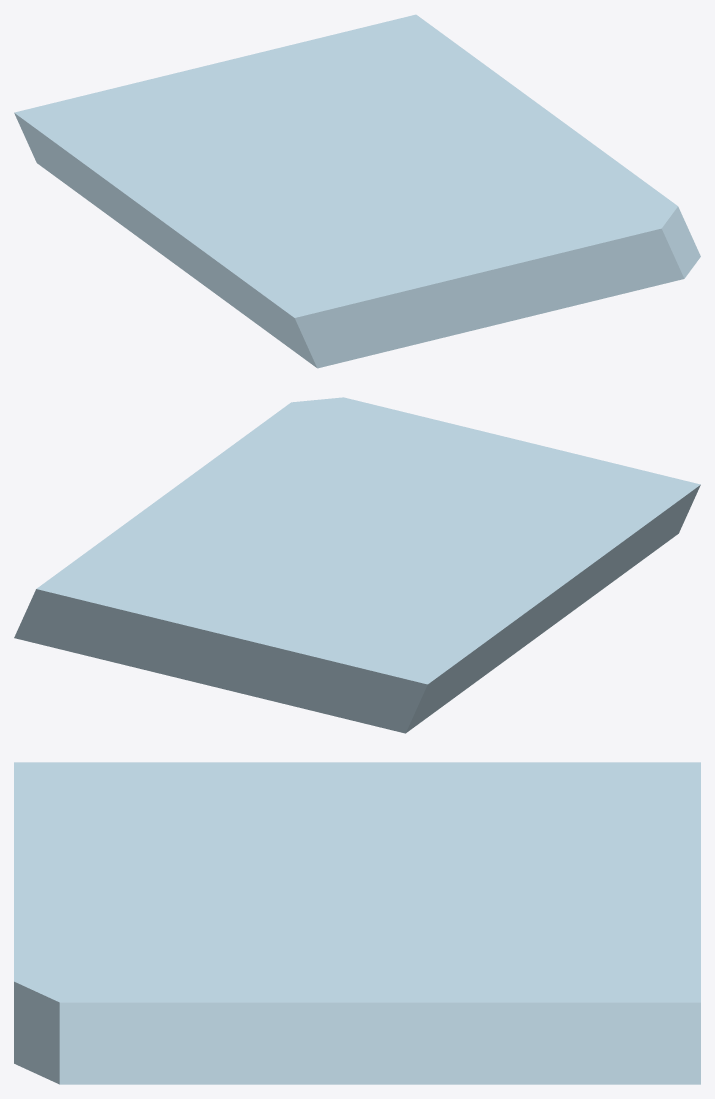
File: STAM - A4-0.gltf
3 views of the same model, one above another, from view 1: azimuth 30°, elevation 25°; view 2: azimuth 150°, elevation 25°; view 3: azimuth 270°, elevation 25° (orthographic). The views are drawn at different scales.
Parts seen in each view (by area): view 1: A4-0; view 2: A4-0; view 3: A4-0.
Boxes of the visible parts, left/top/right/bottom form: A4-0: left=14, top=14, right=700, bottom=368; A4-0: left=14, top=397, right=700, bottom=733; A4-0: left=14, top=762, right=700, bottom=1084.
Bounding box in the file's own units: 0.0131 × 0.00165 × 0.015.
